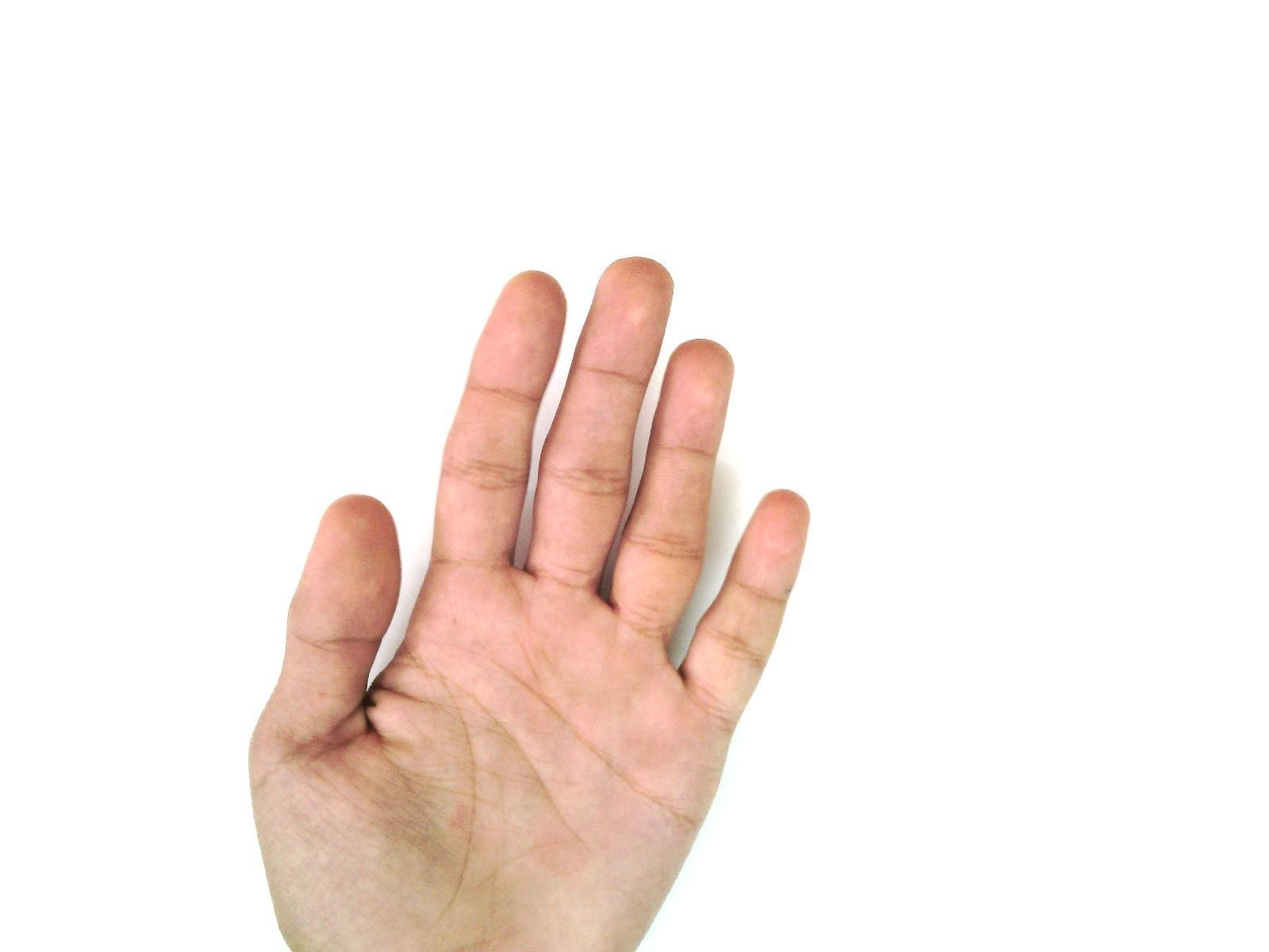open_palm: (246, 255, 813, 951)
